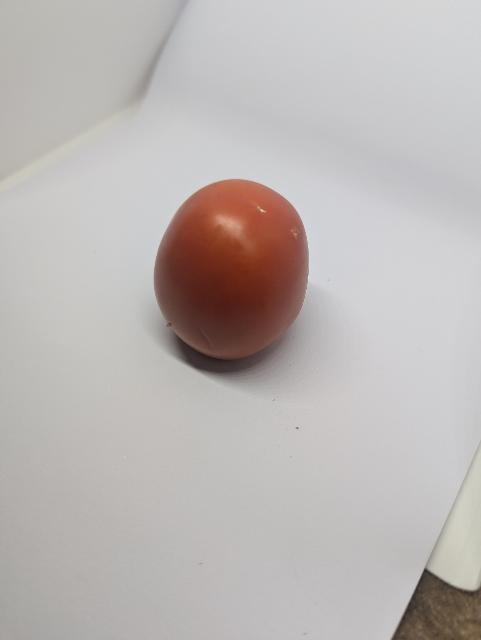red: (141, 166, 322, 392)
